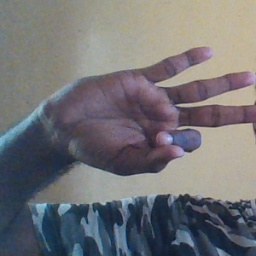K: (41, 49, 256, 177)
